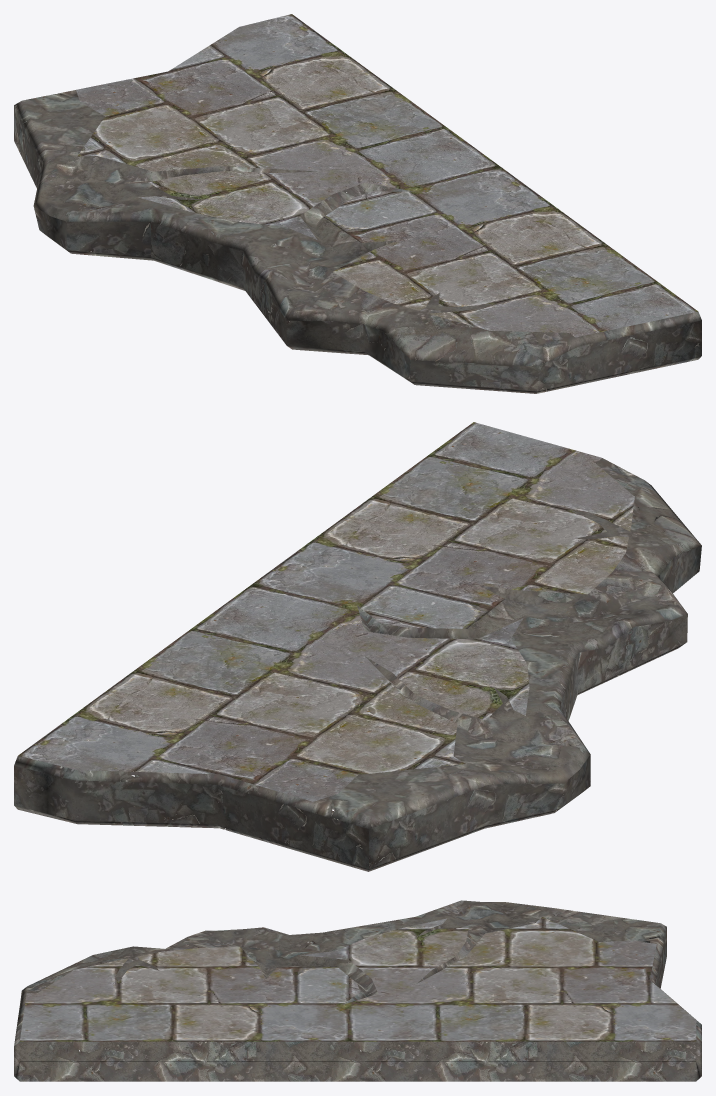
The picture shows the model from 3 angles, top to bottom: view 1: azimuth 30°, elevation 25°; view 2: azimuth 150°, elevation 25°; view 3: azimuth 270°, elevation 25°; orthographic projection. The views are drawn at different scales.
Visible parts, largest first — view 1: SM_Greathall_Floor_8x8_Dmg_05_LOD0; view 2: SM_Greathall_Floor_8x8_Dmg_05_LOD0; view 3: SM_Greathall_Floor_8x8_Dmg_05_LOD0.
Boxes of the visible parts, x1,y1,x2,y2 form: SM_Greathall_Floor_8x8_Dmg_05_LOD0: [14, 14, 701, 393]; SM_Greathall_Floor_8x8_Dmg_05_LOD0: [14, 422, 701, 871]; SM_Greathall_Floor_8x8_Dmg_05_LOD0: [14, 900, 701, 1081].
Size of the model in its own units: 4.05 by 0.5 by 7.78.
2 materials, 2 textured.
